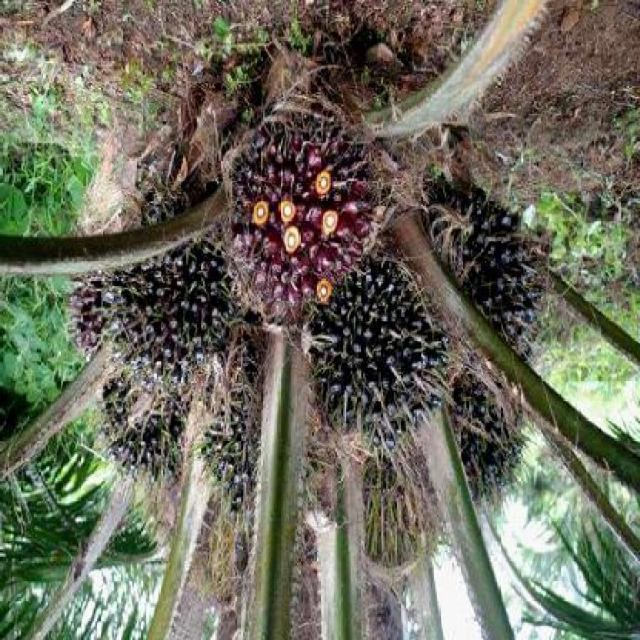palm-oil: (210, 101, 388, 322), (292, 234, 458, 444), (117, 159, 250, 368), (80, 253, 202, 480), (423, 165, 552, 350), (430, 374, 540, 503), (210, 370, 272, 494)
